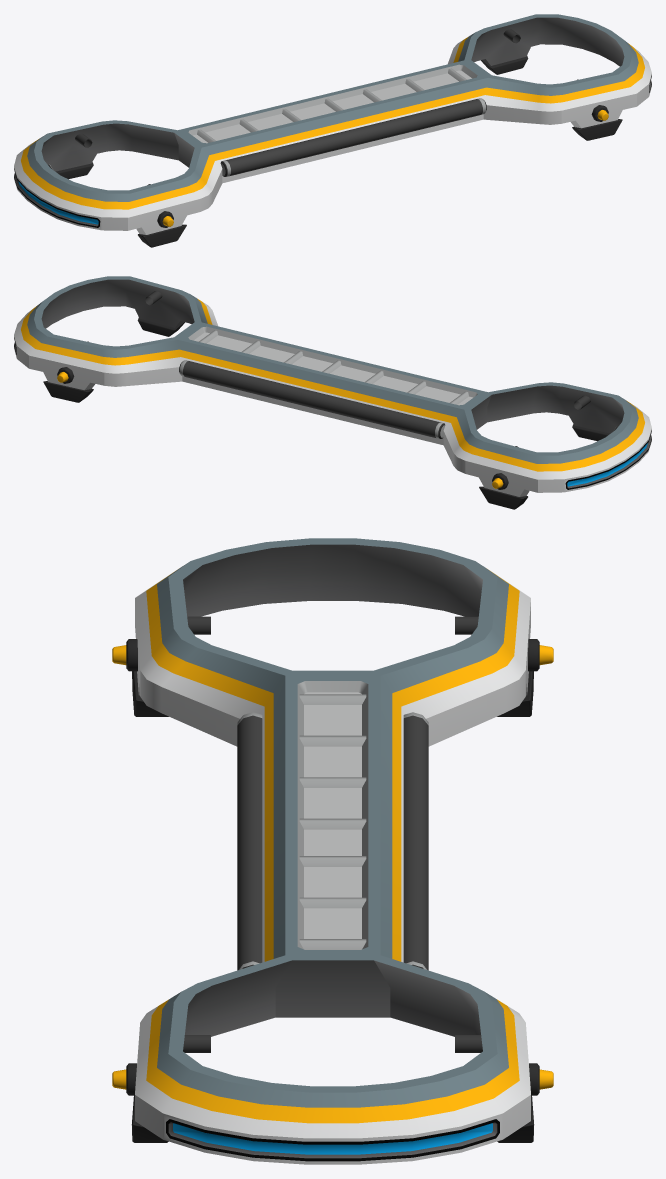
Rendered from Cargo_drone_005.fbx.
The picture shows the model from 3 angles, top to bottom: view 1: azimuth 30°, elevation 25°; view 2: azimuth 150°, elevation 25°; view 3: azimuth 270°, elevation 25°; orthographic projection. The views are drawn at different scales.
Parts seen in each view (by area): view 1: Cargo_drone_005; view 2: Cargo_drone_005; view 3: Cargo_drone_005.
Part boxes in pixels (x1,y1,x2,y2): Cargo_drone_005: (14,14,651,247); Cargo_drone_005: (14,276,651,509); Cargo_drone_005: (112,538,553,1164).
Bounding box in the file's own units: 703 × 225 × 57.36.
